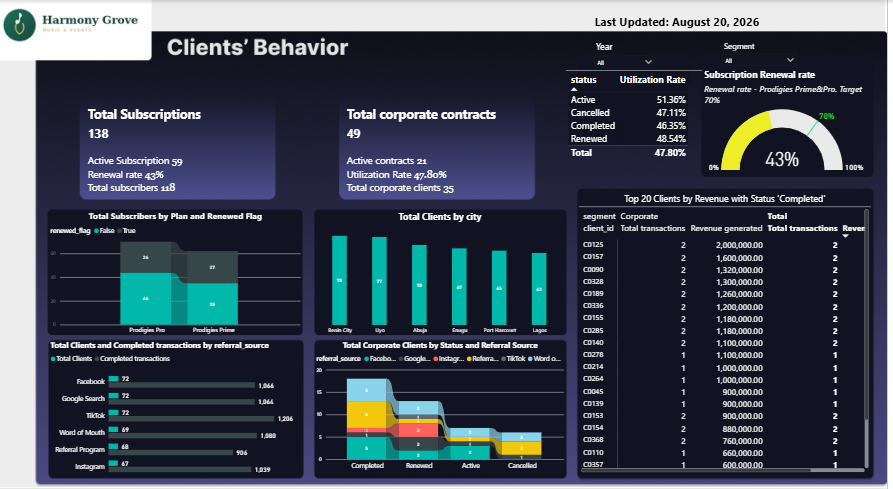

Layout of this report page (visuals, bound fields, positions):
{"tool":"powerbi","page":{"name":"Clients' Behaviour","canvas":[1980,1080],"ordinal":2},"visuals":[{"type":"cardVisual","fields":{"Data":["_Measures.Total Subscriptions"]},"box":[194,211.6,429.8,231.4],"z":0},{"type":"cardVisual","fields":{"Data":["_Measures.Total contracts"]},"box":[767,211.6,432,231.4],"z":1000},{"type":"columnChart","title":"Total Subscribers by Plan and Renewed Flag","fields":{"Y":["_Measure (3).Total subscribers"],"Category":["subscriptions.plan"],"Series":["subscriptions.renewed_flag"]},"box":[123.4,465.1,564.2,284.3],"z":2000},{"type":"ribbonChart","fields":{"Category":["clients.city"],"Y":["_Measure (3).Total Clients"]},"box":[711.9,465.1,557.6,284.3],"z":3000},{"type":"columnChart","title":"Total Corporate Clients by Status and Referral Source","fields":{"Category":["corporate contracts.status"],"Y":["_Measure (3).Total corporate clients"],"Series":["clients.referral_source"]},"box":[711.9,749.4,557.6,299.8],"z":4000},{"type":"gauge","title":"Subscription Renewal rate","fields":{"Y":["_Measure (3).Renewal rate"]},"box":[1571.5,149.9,372.5,235.8],"z":5000},{"type":"pivotTable","title":"Top 20 Clients by Revenue with Status ''Completed''","fields":{"Rows":["clients.client_id","clients.city","bookings.status","payments.payment_status"],"Columns":["clients.segment"],"Values":["_Measure (3).Total Bookings","_Measure (3).Total Revenue"]},"box":[1298.2,425.4,645.8,623.8],"z":6000},{"type":"clusteredBarChart","fields":{"Y":["_Measures.Total Clients","_Measures.Completed transactions"],"Category":["clients.referral_source"]},"box":[123.4,749.4,564.2,315.2],"z":7000},{"type":"tableEx","fields":{"Values":["corporate contracts.status","corporate contracts.Utilization rate"]},"box":[1269.9,150.4,300.9,236.7],"z":8000},{"type":"slicer","fields":{"Values":["DateTable.Year"]},"box":[1322.4,83.8,152.1,66.1],"z":9000},{"type":"slicer","fields":{"Values":["clients.segment"]},"box":[1606.8,83.8,182.9,66.1],"z":10000},{"type":"cardVisual","fields":{"Data":["_Measures.Last Refreshed"]},"box":[1315.8,0,425.4,86],"z":11000}]}

Visuals, with their boxes in screenshot pixels (x1, y1, x2, y2), scaled from the page's 1980x1080 canvas onto the 893x489 screenshot:
cardVisual - _Measures.Total Subscriptions: {"left": 87, "top": 96, "right": 281, "bottom": 201}
cardVisual - _Measures.Total contracts: {"left": 346, "top": 96, "right": 541, "bottom": 201}
"Total Subscribers by Plan and Renewed Flag" columnChart: {"left": 56, "top": 211, "right": 310, "bottom": 339}
ribbonChart - clients.city x _Measure (3).Total Clients: {"left": 321, "top": 211, "right": 573, "bottom": 339}
"Total Corporate Clients by Status and Referral Source" columnChart: {"left": 321, "top": 339, "right": 573, "bottom": 475}
"Subscription Renewal rate" gauge: {"left": 709, "top": 68, "right": 877, "bottom": 175}
"Top 20 Clients by Revenue with Status ''Completed''" pivotTable: {"left": 586, "top": 193, "right": 877, "bottom": 475}
clusteredBarChart - _Measures.Total Clients x _Measures.Completed transactions: {"left": 56, "top": 339, "right": 310, "bottom": 482}
tableEx - corporate contracts.status x corporate contracts.Utilization rate: {"left": 573, "top": 68, "right": 708, "bottom": 175}
slicer - DateTable.Year: {"left": 596, "top": 38, "right": 665, "bottom": 68}
slicer - clients.segment: {"left": 725, "top": 38, "right": 807, "bottom": 68}
cardVisual - _Measures.Last Refreshed: {"left": 593, "top": 0, "right": 785, "bottom": 39}
